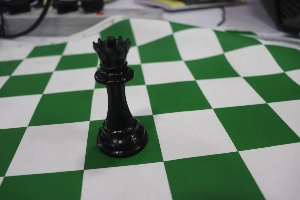black_queen: (83, 28, 152, 165)
